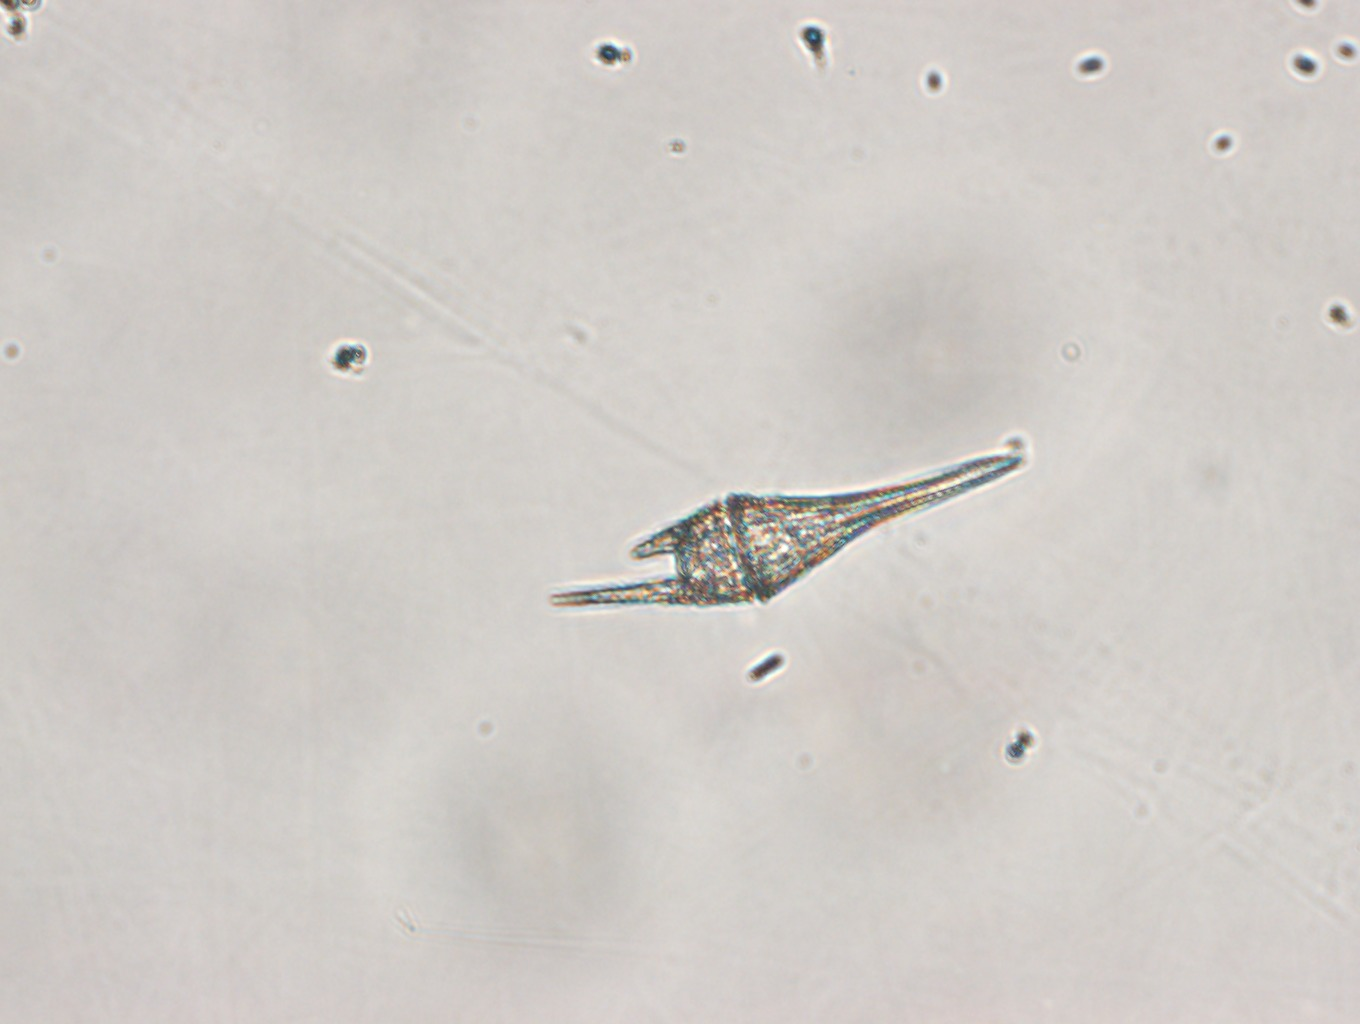ceratium furca: (545, 449, 1021, 611)
